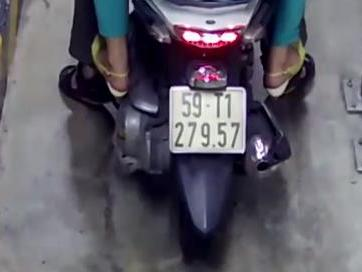num_plate: (168, 84, 248, 153)
